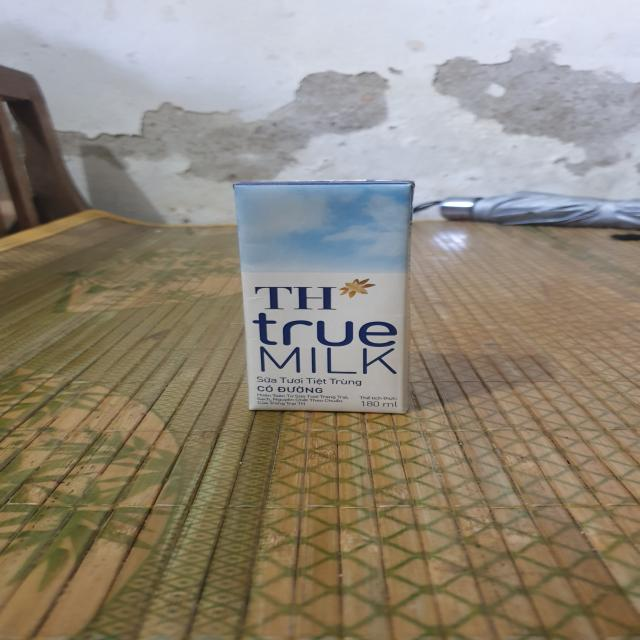TH: (228, 177, 426, 421)
